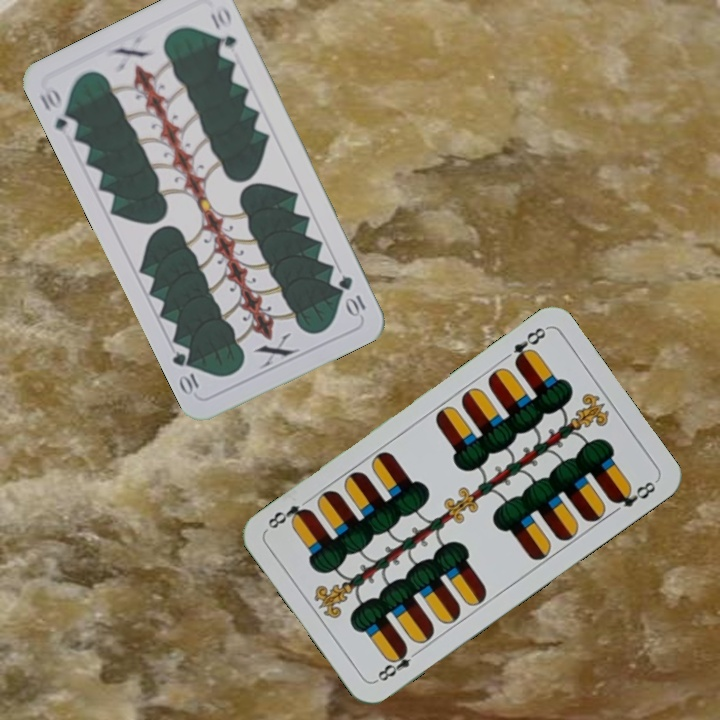E8: (371, 643, 423, 685), (509, 323, 549, 368)
G10: (36, 84, 81, 140), (334, 271, 369, 319)
